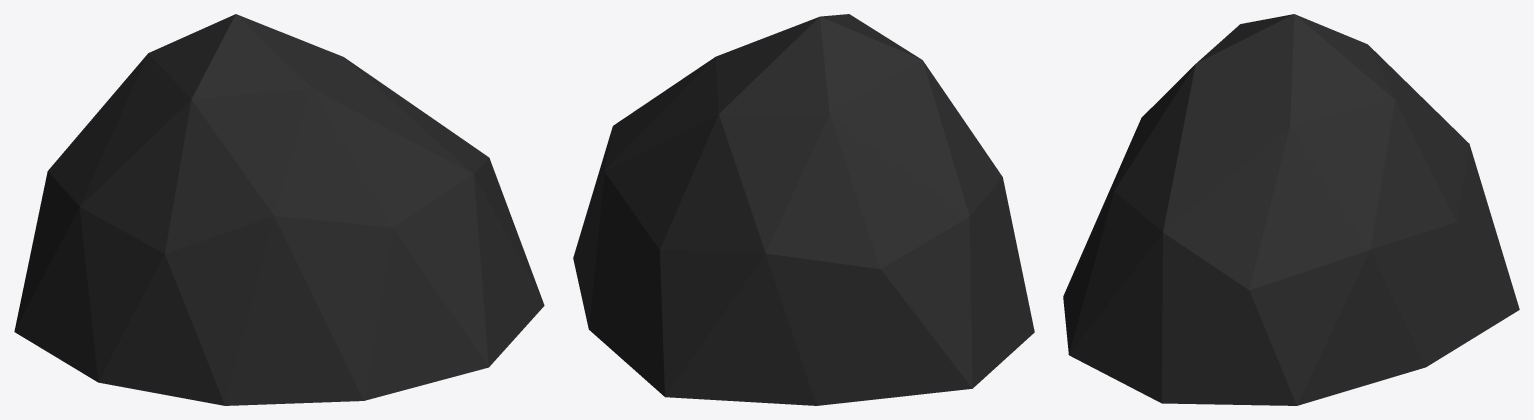
File: MountainStone(4).fbx
The picture shows the model from 3 angles, left to right: view 1: azimuth 30°, elevation 25°; view 2: azimuth 150°, elevation 25°; view 3: azimuth 270°, elevation 25°; orthographic projection. The views are drawn at different scales.
Parts seen in each view (by area): view 1: MountainStone(4); view 2: MountainStone(4); view 3: MountainStone(4).
Part boxes in pixels (x1=…): MountainStone(4): x1=14, y1=14, x2=544, y2=405; MountainStone(4): x1=573, y1=14, x2=1034, y2=405; MountainStone(4): x1=1063, y1=14, x2=1519, y2=405.
Bounding box in the file's own units: 1.4 × 0.9251 × 1.37.
